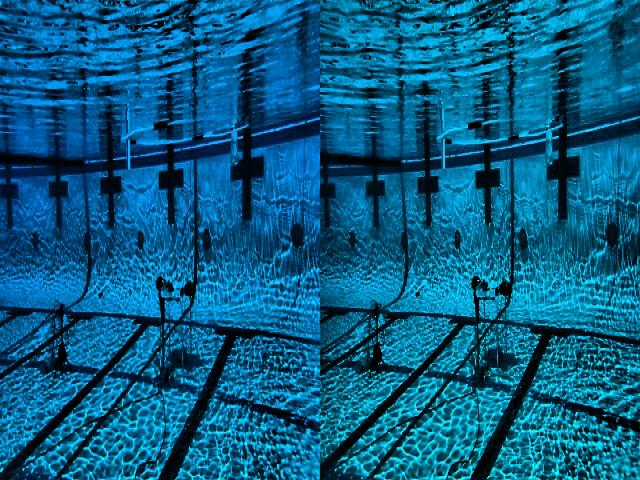octagon_table: (472, 269, 510, 378), (157, 274, 192, 363)
octagon_top: (119, 112, 253, 172), (436, 115, 565, 170)
